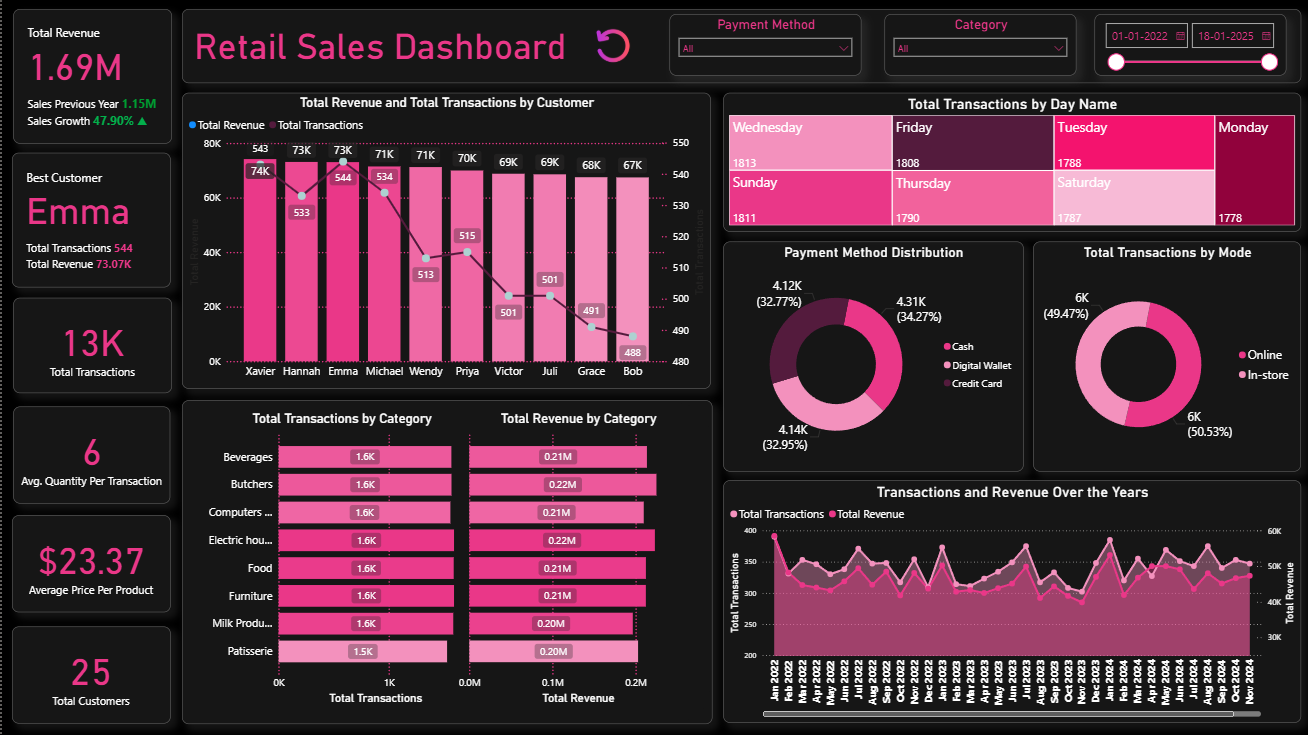

What the dashboard file says about the page in this screenshot:
{"tool":"powerbi","page":{"name":"Page 1","canvas":[1920,1080],"ordinal":0},"visuals":[{"type":"shape","box":[263.5,14.4,1642.5,109.1],"z":0},{"type":"shape","box":[263.5,588.7,778,475.5],"z":0,"group":"g1"},{"type":"donutChart","title":"Payment Method Distribution","fields":{"Category":["Sales Data.Payment Method"],"Y":["CountNonNull(Sales Data.Transaction ID)"]},"box":[1058,356.1,440.5,337.6],"z":1000},{"type":"lineChart","title":"Transactions and Revenue Over the Years","fields":{"Y":["CountNonNull(Sales Data.Transaction ID)"],"Category":["DateTable.MonthYear"],"Y2":["Measures Table.Total Revenue"]},"box":[1058,706,848,356.1],"z":2000},{"type":"cardVisual","fields":{"Data":["Measures Table.Total Revenue"]},"box":[16.5,14.4,232.6,197.6],"z":3000},{"type":"card","fields":{"Values":["Measures Table.Total Transactions"]},"box":[16.5,438,232.6,140],"z":4000},{"type":"card","fields":{"Values":["Measures Table.Average Price Per Product"]},"box":[14.4,757.5,232.6,142],"z":5000},{"type":"card","fields":{"Values":["Measures Table.Total Customers"]},"box":[14.4,920.1,232.6,142],"z":6000},{"type":"card","fields":{"Values":["Measures Table.Average Quantity Per Transaction"]},"box":[16.5,598,230.5,142],"z":7000},{"type":"lineStackedColumnComboChart","title":"Total Revenue and Total Transactions by Customer ","fields":{"Category":["Sales Data.Customer Name"],"Y":["Measures Table.Total Revenue"],"Y2":["Measures Table.Total Transactions"]},"box":[263.5,137.9,776,434.3],"z":8000},{"type":"cardVisual","fields":{"Data":["Min(Sales Data.Customer Name)"]},"box":[14.4,226.4,232.6,197.6],"z":9000},{"type":"donutChart","fields":{"Y":["Measures Table.Total Transactions"],"Category":["Sales Data.Mode"]},"box":[1512.9,356.1,393.1,337.6],"z":10000},{"type":"treemap","fields":{"Values":["Measures Table.Total Transactions"],"Group":["Sales Data.Day Name"]},"box":[1058,137.9,848,203.8],"z":11000},{"type":"clusteredBarChart","fields":{"Category":["Sales Data.Category"],"Y":["Measures Table.Total Transactions"]},"box":[285.5,605.1,426.1,434.5],"z":11000,"group":"g1"},{"type":"group","id":"g1","title":"Group 1","box":[263.5,588.7,778,475.5],"z":12000},{"type":"clusteredBarChart","fields":{"Category":["Sales Data.Category"],"Y":["Measures Table.Total Revenue"]},"box":[663.9,605.8,364.3,434.3],"z":12000,"group":"g1"},{"type":"textbox","box":[277.9,32.9,776,74.1],"z":12001},{"type":"slicer","fields":{"Values":["DateTable.Date"]},"box":[1603.4,22.6,282,90.6],"z":12002},{"type":"slicer","title":"Category","fields":{"Values":["Sales Data.Category"]},"box":[1294.7,22.6,282,90.6],"z":12003},{"type":"slicer","title":"Payment Method","fields":{"Values":["Sales Data.Payment Method"]},"box":[979.8,22.6,282,90.6],"z":12004},{"type":"image","box":[835.7,35,144.1,65.9],"z":12005}]}

Visuals, with their boxes in screenshot pixels (x1, y1, x2, y2), scaled from the page's 1920x1080 canvas onto the 1308x735 screenshot:
shape: {"x1": 180, "y1": 10, "x2": 1298, "y2": 84}
shape: {"x1": 180, "y1": 401, "x2": 710, "y2": 724}
"Payment Method Distribution" donutChart: {"x1": 721, "y1": 242, "x2": 1021, "y2": 472}
"Transactions and Revenue Over the Years" lineChart: {"x1": 721, "y1": 480, "x2": 1298, "y2": 723}
cardVisual - Measures Table.Total Revenue: {"x1": 11, "y1": 10, "x2": 170, "y2": 144}
card - Measures Table.Total Transactions: {"x1": 11, "y1": 298, "x2": 170, "y2": 393}
card - Measures Table.Average Price Per Product: {"x1": 10, "y1": 516, "x2": 168, "y2": 612}
card - Measures Table.Total Customers: {"x1": 10, "y1": 626, "x2": 168, "y2": 723}
card - Measures Table.Average Quantity Per Transaction: {"x1": 11, "y1": 407, "x2": 168, "y2": 504}
"Total Revenue and Total Transactions by Customer " lineStackedColumnComboChart: {"x1": 180, "y1": 94, "x2": 708, "y2": 389}
cardVisual - Min(Sales Data.Customer Name): {"x1": 10, "y1": 154, "x2": 168, "y2": 289}
donutChart - Measures Table.Total Transactions x Sales Data.Mode: {"x1": 1031, "y1": 242, "x2": 1298, "y2": 472}
treemap - Measures Table.Total Transactions x Sales Data.Day Name: {"x1": 721, "y1": 94, "x2": 1298, "y2": 233}
clusteredBarChart - Sales Data.Category x Measures Table.Total Transactions: {"x1": 194, "y1": 412, "x2": 485, "y2": 708}
"Group 1" group: {"x1": 180, "y1": 401, "x2": 710, "y2": 724}
clusteredBarChart - Sales Data.Category x Measures Table.Total Revenue: {"x1": 452, "y1": 412, "x2": 700, "y2": 708}
textbox: {"x1": 189, "y1": 22, "x2": 718, "y2": 73}
slicer - DateTable.Date: {"x1": 1092, "y1": 15, "x2": 1284, "y2": 77}
"Category" slicer: {"x1": 882, "y1": 15, "x2": 1074, "y2": 77}
"Payment Method" slicer: {"x1": 667, "y1": 15, "x2": 860, "y2": 77}
image: {"x1": 569, "y1": 24, "x2": 667, "y2": 69}
